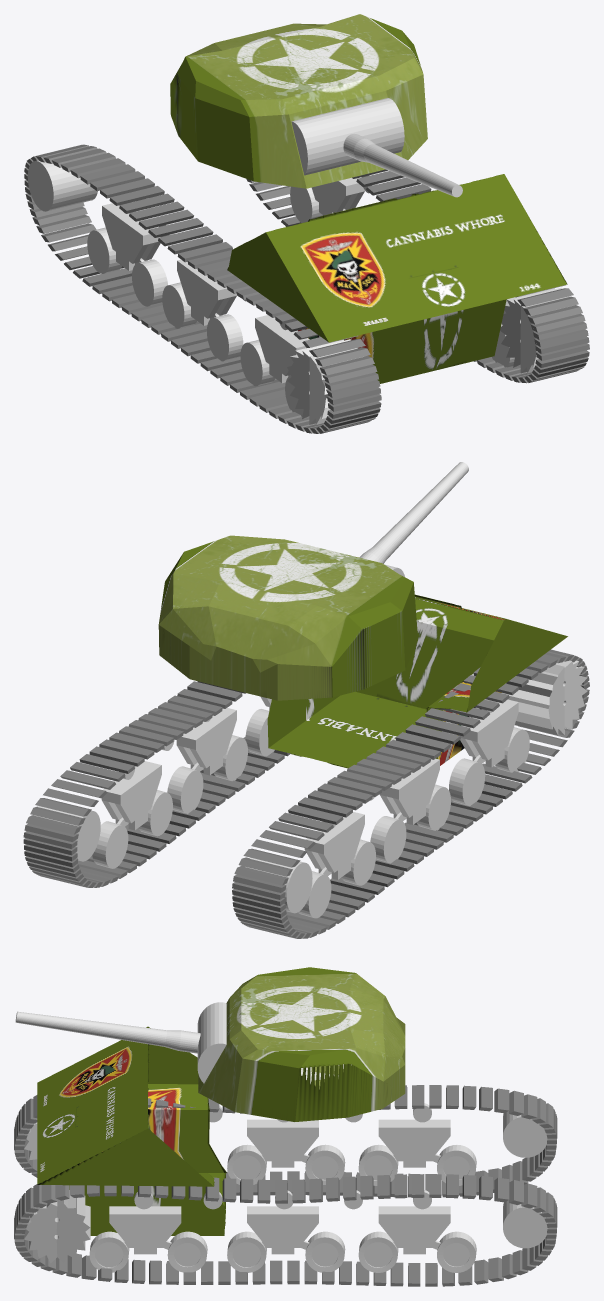
Rendered from m4aBlend.fbx.
3 views of the same model, one above another, from view 1: azimuth 30°, elevation 25°; view 2: azimuth 150°, elevation 25°; view 3: azimuth 270°, elevation 25° (orthographic). The views are drawn at different scales.
Visible parts, largest first — view 1: body, turret, track.001, track, GunBase, trackRollerDamp.005, trackRollerDamp.004, trackRollerDamp.003, frontLeftWheel.001, rightBackRoller.001, pipe, trackRollerDamp.002 (+1 smaller); view 2: turret, track.001, body, track, trackRollerDamp.002, trackRollerDamp.001, trackRollerDamp.003, trackRollerDamp.004, trackRollerDamp.005, frontLeftWheel.001, pipe, rightBackRoller.001 (+2 smaller); view 3: body, turret, track, track.001, trackRollerDamp.002, trackRollerDamp.001, trackRollerDamp, trackRollerDamp.004, trackRollerDamp.005, frontLeftWheel, pipe, GunBase (+2 smaller).
Part boxes in pixels (box(x1,y1,x2,y2)): body: box(227, 174, 567, 383); turret: box(170, 14, 427, 188); track.001: box(24, 144, 381, 433); track: box(246, 169, 589, 383); GunBase: box(291, 98, 404, 175); trackRollerDamp.005: box(87, 203, 167, 306); trackRollerDamp.004: box(162, 259, 243, 361); trackRollerDamp.003: box(240, 315, 309, 416); frontLeftWheel.001: box(287, 339, 364, 424); rightBackRoller.001: box(27, 160, 97, 211); pipe: box(343, 133, 462, 197); trackRollerDamp.002: box(290, 177, 364, 222); turret: box(158, 535, 417, 700); track.001: box(232, 649, 589, 938); body: box(267, 594, 567, 768); track: box(23, 681, 290, 887); trackRollerDamp.002: box(92, 761, 172, 868); trackRollerDamp.001: box(167, 708, 247, 813); trackRollerDamp.003: box(449, 699, 529, 805); trackRollerDamp.004: box(370, 758, 450, 863); trackRollerDamp.005: box(298, 812, 375, 918); frontLeftWheel.001: box(502, 660, 587, 735); pipe: box(359, 462, 468, 563); rightBackRoller.001: box(245, 857, 312, 913); body: box(37, 1026, 226, 1235); turret: box(198, 967, 405, 1121); track: box(14, 1174, 557, 1286); track.001: box(14, 1085, 557, 1197); trackRollerDamp.002: box(358, 1206, 476, 1272); trackRollerDamp.001: box(227, 1206, 345, 1272); trackRollerDamp: box(89, 1206, 207, 1272); trackRollerDamp.004: box(227, 1119, 345, 1184); trackRollerDamp.005: box(358, 1119, 476, 1185); frontLeftWheel: box(24, 1190, 90, 1263); pipe: box(15, 1011, 200, 1053); GunBase: box(197, 1002, 226, 1083).
Bounding box in the file's own units: 299 × 653 × 280.
